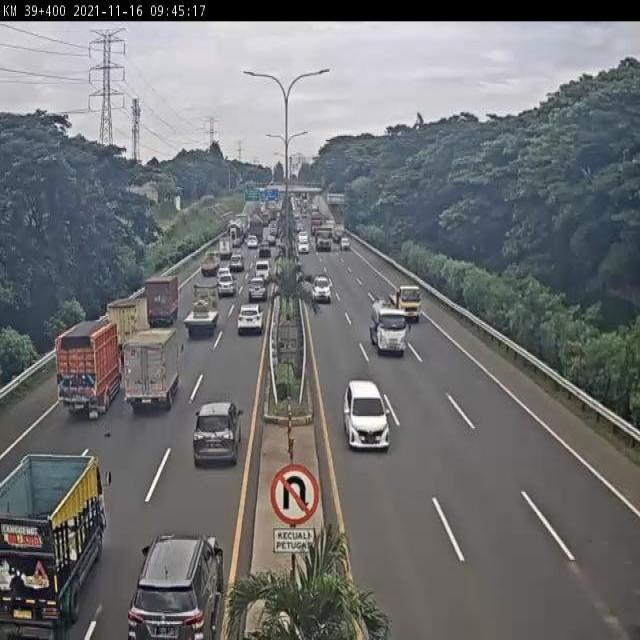car: (344, 379, 391, 453), (192, 404, 243, 468), (236, 304, 261, 331), (310, 272, 331, 300), (248, 277, 268, 303), (226, 253, 245, 276), (218, 273, 235, 295)
small bus: (254, 260, 273, 281)
small truck: (124, 329, 178, 407), (106, 297, 148, 352), (371, 300, 409, 356), (393, 281, 422, 323), (202, 250, 222, 274)
truck-m-: (57, 316, 119, 413), (140, 274, 179, 326), (183, 287, 221, 336)
